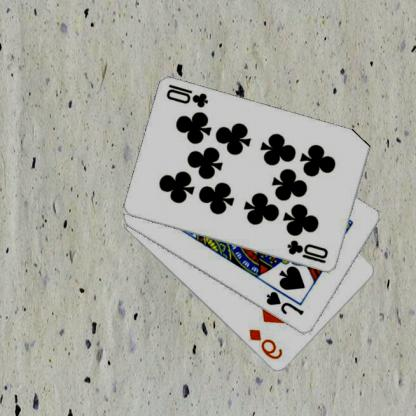10C: (286, 238, 332, 265), (166, 82, 212, 109)
6D: (248, 326, 286, 362)
JS: (265, 289, 307, 317)
